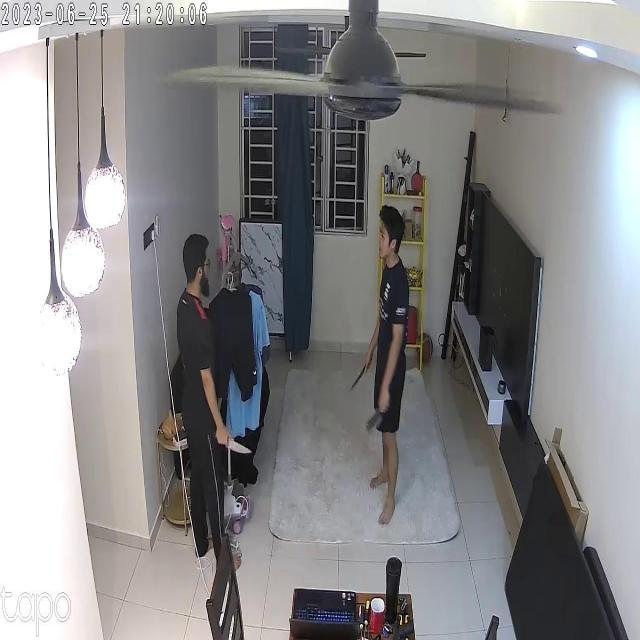Knife: (342, 340, 378, 392), (216, 422, 260, 464), (359, 401, 393, 442)
